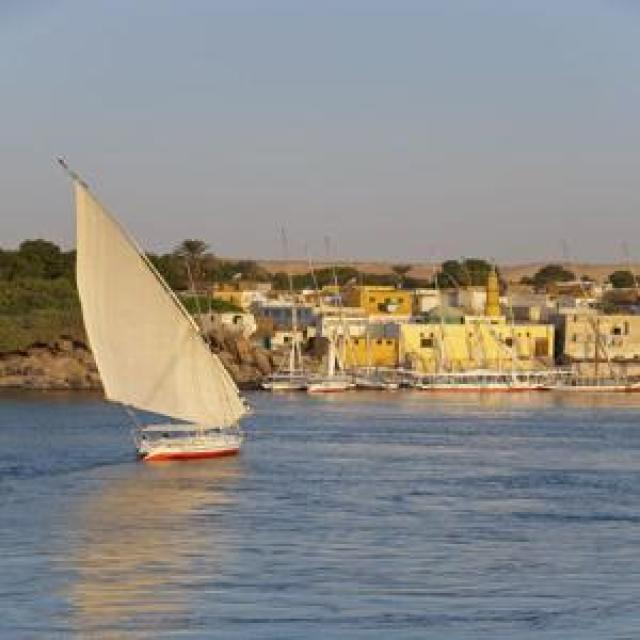sailboat: (52, 152, 254, 468)
